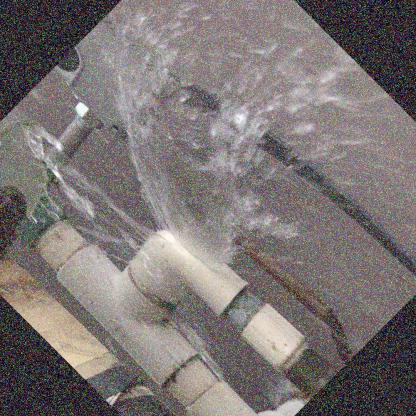burst: (139, 206, 230, 280)
